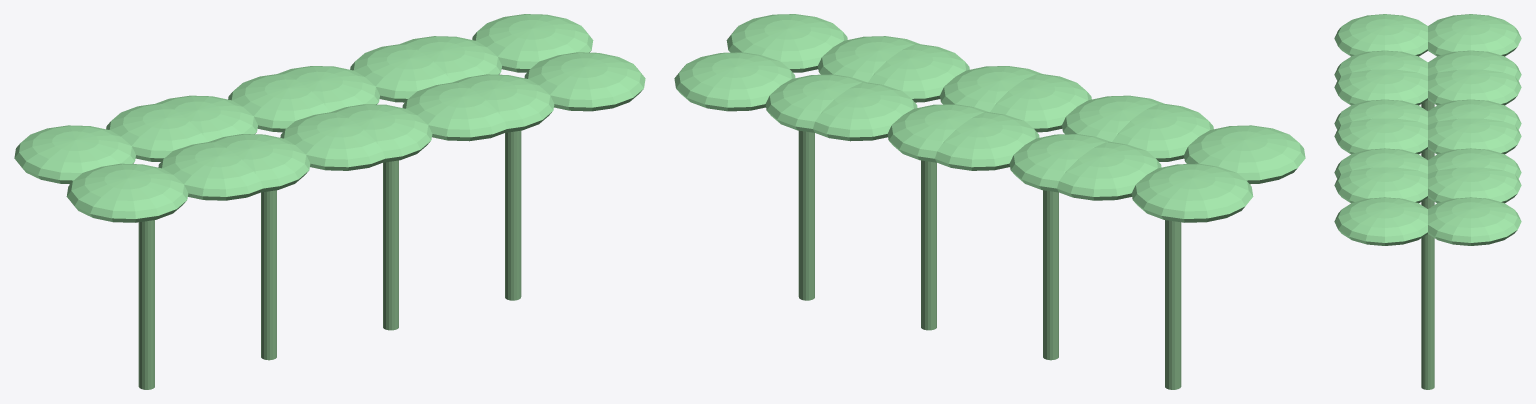
Rendered from SpawnLuckProp.glb.
The picture shows the model from 3 angles, left to right: view 1: azimuth 30°, elevation 25°; view 2: azimuth 150°, elevation 25°; view 3: azimuth 270°, elevation 25°; orthographic projection. The views are drawn at different scales.
Parts seen in each view (by area): view 1: SpawnLuckProp_1, SpawnLuckProp_0; view 2: SpawnLuckProp_1, SpawnLuckProp_0; view 3: SpawnLuckProp_1, SpawnLuckProp_0.
Part boxes in pixels (bbox=[...]): SpawnLuckProp_1: bbox=[14, 14, 645, 222]; SpawnLuckProp_0: bbox=[138, 130, 521, 389]; SpawnLuckProp_1: bbox=[674, 14, 1305, 222]; SpawnLuckProp_0: bbox=[798, 130, 1181, 389]; SpawnLuckProp_1: bbox=[1334, 14, 1521, 245]; SpawnLuckProp_0: bbox=[1421, 100, 1434, 389].
Size of the model in its own units: 5.54 by 2.24 by 1.94.
